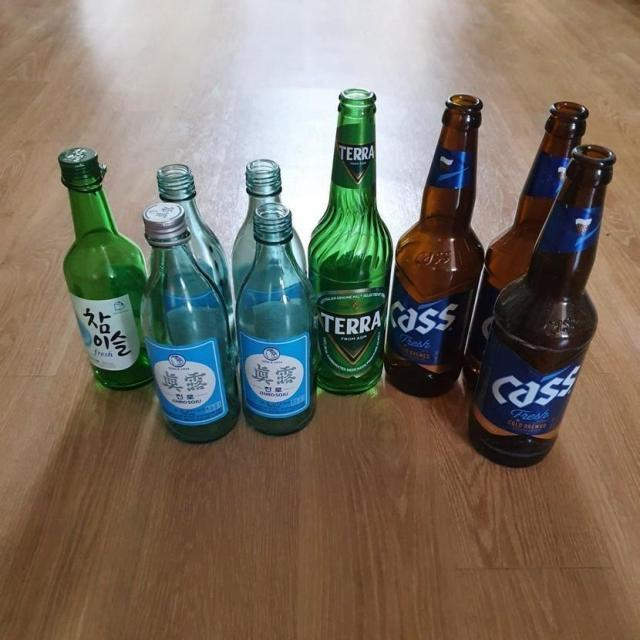beer-bottle: (463, 127, 617, 464), (384, 92, 487, 398), (306, 87, 394, 402)
soju-bottle: (138, 197, 238, 439), (61, 152, 150, 390), (235, 184, 318, 436), (158, 164, 236, 308), (230, 160, 293, 308)
